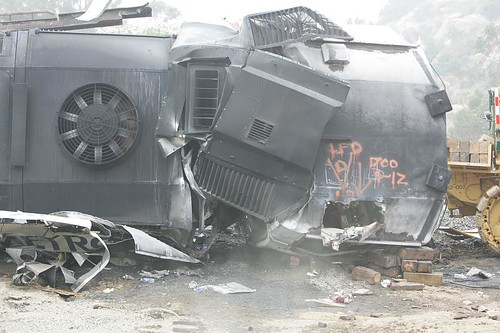train: (5, 20, 437, 262)
